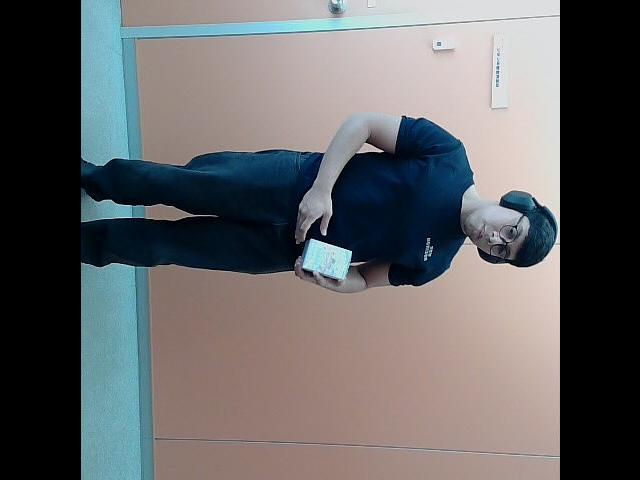Blind_box: (304, 234, 352, 282)
